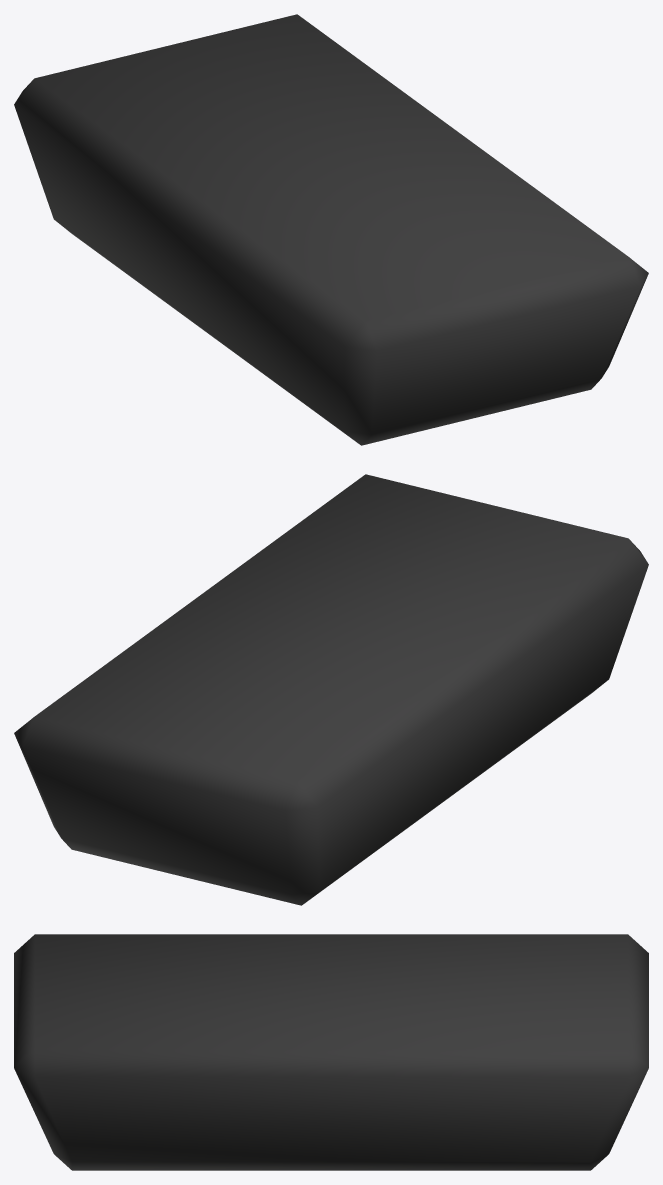
Rendered from Podest_1_1.glb.
3 renders of one model, top to bottom at view 1: azimuth 30°, elevation 25°; view 2: azimuth 150°, elevation 25°; view 3: azimuth 270°, elevation 25°, orthographic. The views are drawn at different scales.
Parts seen in each view (by area): view 1: Podest_1_1; view 2: Podest_1_1; view 3: Podest_1_1.
Boxes of the visible parts, x1,y1,x2,y2 form: Podest_1_1: (14,14,648,445); Podest_1_1: (14,474,648,905); Podest_1_1: (14,934,648,1170).
Bounding box in the file's own units: 0.4331 × 0.1963 × 0.8764.
Materials: 1 (1 with a texture image).
